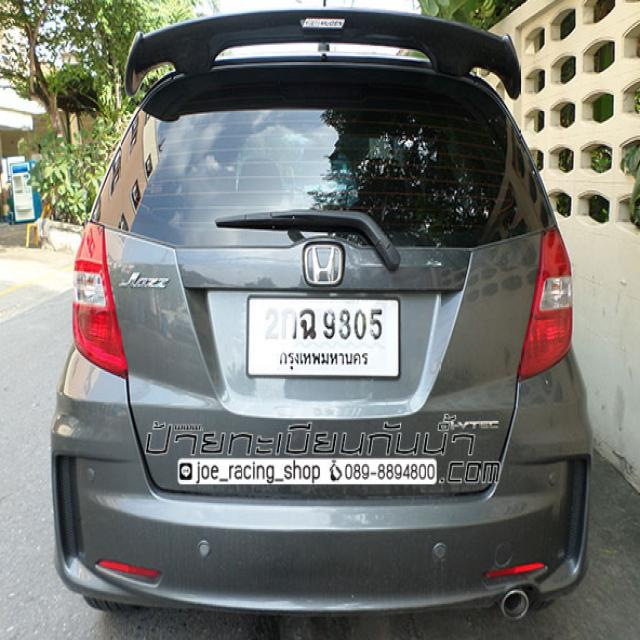license_plate: (244, 291, 402, 383)
